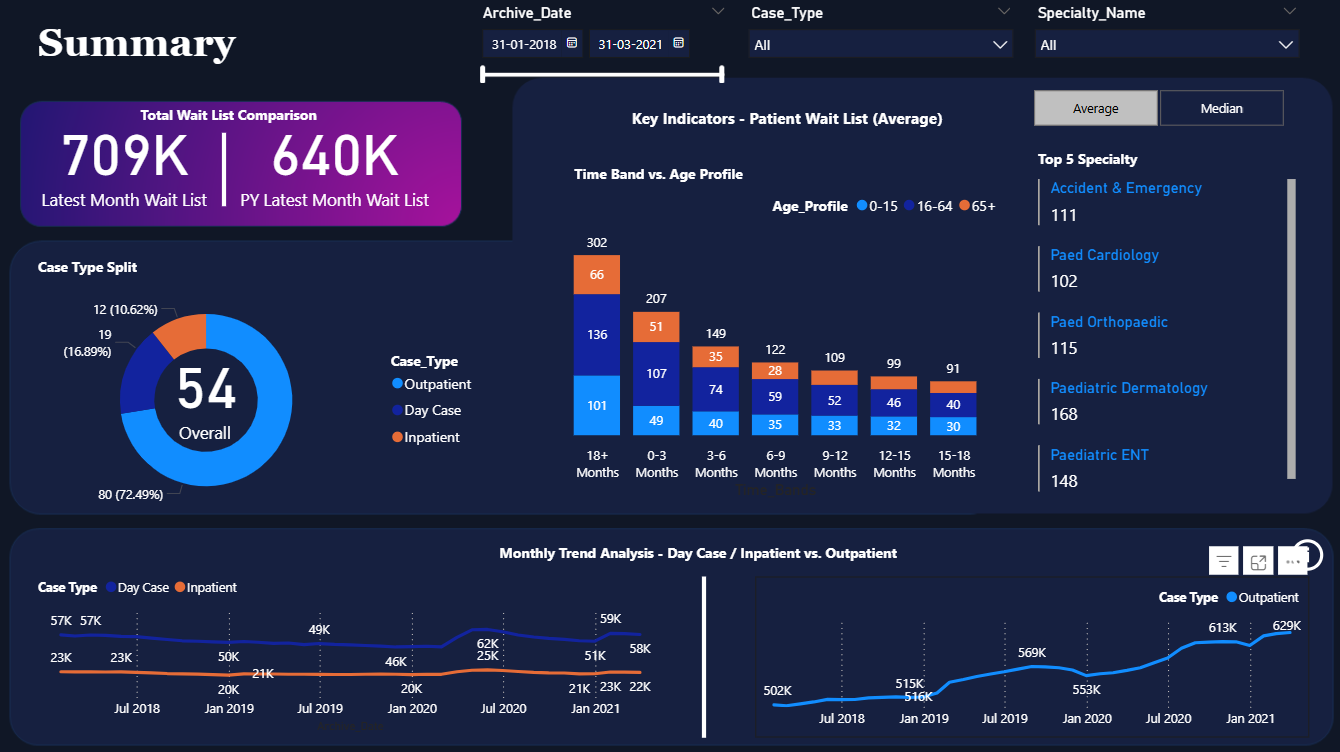

The dashboard page shown, as its layout file describes it:
{"tool":"powerbi","page":{"name":"Summary","canvas":[1280,720],"ordinal":0},"visuals":[{"type":"card","fields":{"Values":["All Data.Latest Month Wait List"]},"box":[16,96,208,112],"z":0},{"type":"card","fields":{"Values":["All Data.PY Latest Month Wait List"]},"box":[224,96,192,112],"z":1000},{"type":"slicer","fields":{"Values":["Calculation Method.Calc Method"]},"box":[960,80,288,48],"z":2000},{"type":"donutChart","fields":{"Category":["All Data.Case_Type"],"Y":["All Data.Avg/Med Wait List"]},"box":[16.2,267.5,447.5,228.8],"z":3000},{"type":"columnChart","fields":{"Y":["All Data.Avg/Med Wait List"],"Category":["All Data.Time_Bands"],"Series":["All Data.Age_Profile"]},"box":[512,176,448,304],"z":4000},{"type":"multiRowCard","fields":{"Values":["All Data.Specialty_Name","All Data.Avg/Med Wait List"]},"box":[985,166.2,255,312.5],"z":5000},{"type":"card","fields":{"Values":["All Data.No Data Left"]},"box":[186.2,558.8,300,128.8],"z":6000},{"type":"lineChart","fields":{"Category":["All Data.Archive_Date"],"Y":["Sum(All Data.Total)"],"Series":["All Data.Case_Type"]},"box":[32.5,540,607.5,163.8],"z":7000},{"type":"card","fields":{"Values":["All Data.No Data Right"]},"box":[835,557.5,300,128.8],"z":8000},{"type":"lineChart","fields":{"Category":["All Data.Archive_Date"],"Y":["Sum(All Data.Total)"],"Series":["All Data.Case_Type"]},"box":[720,550,527.5,153.8],"z":9000},{"type":"slicer","fields":{"Values":["All Data.Archive_Date"]},"box":[447.5,0,256.2,80],"z":10000},{"type":"slicer","fields":{"Values":["All Data.Case_Type"]},"box":[703.8,0,272.5,80],"z":11000},{"type":"slicer","fields":{"Values":["All Data.Specialty_Name"]},"box":[976,0,272,80],"z":12000},{"type":"textbox","box":[32,16,208,64],"z":13000},{"type":"card","fields":{"Values":["All Data.Avg/Med Wait List"]},"box":[85,322.5,223.8,103.8],"z":14000},{"type":"shape","box":[63.8,127.5,300,70],"z":15000},{"type":"textbox","box":[130,96.2,190,27.5],"z":16000},{"type":"textbox","box":[542.5,152.5,193.8,27.5],"z":17000},{"type":"textbox","box":[985,137.5,140,28.8],"z":18000},{"type":"textbox","box":[32.5,240,112.5,27.5],"z":19000},{"type":"textbox","box":[471.2,512.5,400,37.5],"z":20000},{"type":"shape","box":[521.2,550,300,153.8],"z":21000},{"type":"card","fields":{"Values":["All Data.Dynamic Title"]},"box":[591.2,96.2,318.8,38.8],"z":22000},{"type":"actionButton","box":[1226.2,510,41.2,40],"z":23000}]}

Visuals, with their boxes in screenshot pixels (x1, y1, x2, y2), scaled from the page's 1280x720 canvas onto the 1340x752 screenshot:
card - All Data.Latest Month Wait List: [17, 100, 234, 217]
card - All Data.PY Latest Month Wait List: [234, 100, 436, 217]
slicer - Calculation Method.Calc Method: [1005, 84, 1306, 134]
donutChart - All Data.Case_Type x All Data.Avg/Med Wait List: [17, 279, 485, 518]
columnChart - All Data.Avg/Med Wait List x All Data.Time_Bands: [536, 184, 1005, 501]
multiRowCard - All Data.Specialty_Name x All Data.Avg/Med Wait List: [1031, 174, 1298, 500]
card - All Data.No Data Left: [195, 584, 509, 718]
lineChart - All Data.Archive_Date x Sum(All Data.Total): [34, 564, 670, 735]
card - All Data.No Data Right: [874, 582, 1188, 717]
lineChart - All Data.Archive_Date x Sum(All Data.Total): [754, 574, 1306, 735]
slicer - All Data.Archive_Date: [468, 0, 737, 84]
slicer - All Data.Case_Type: [737, 0, 1022, 84]
slicer - All Data.Specialty_Name: [1022, 0, 1306, 84]
textbox: [34, 17, 251, 84]
card - All Data.Avg/Med Wait List: [89, 337, 323, 445]
shape: [67, 133, 381, 206]
textbox: [136, 100, 335, 129]
textbox: [568, 159, 771, 188]
textbox: [1031, 144, 1178, 174]
textbox: [34, 251, 152, 279]
textbox: [493, 535, 912, 574]
shape: [546, 574, 860, 735]
card - All Data.Dynamic Title: [619, 100, 953, 141]
actionButton: [1284, 533, 1327, 574]
